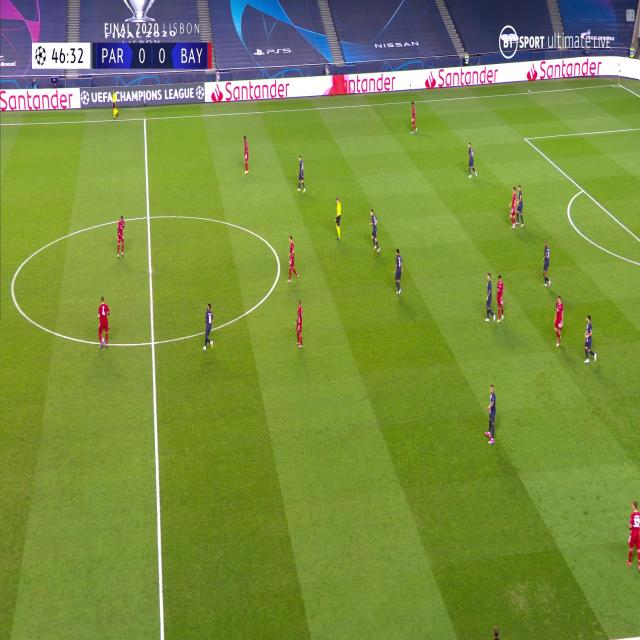player: (624, 500, 640, 571), (483, 384, 498, 444), (97, 294, 111, 351), (582, 314, 597, 364), (552, 294, 565, 348), (286, 235, 300, 283), (202, 302, 215, 351), (484, 271, 495, 323), (392, 247, 403, 296), (541, 239, 552, 288), (368, 208, 380, 252), (294, 298, 304, 348), (115, 214, 126, 259), (509, 185, 520, 228), (495, 274, 505, 321), (333, 196, 342, 240), (296, 154, 306, 193), (514, 185, 523, 228), (467, 142, 477, 178), (242, 135, 250, 174), (410, 100, 418, 134), (111, 91, 119, 119)
